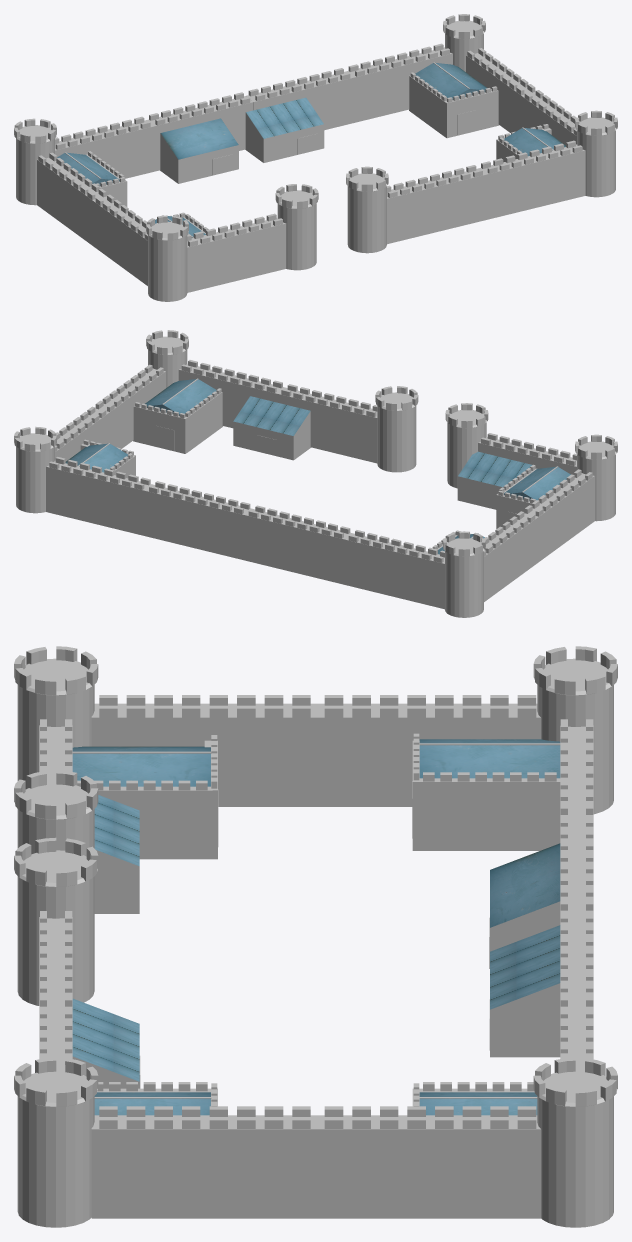
File: castle_lp.FBX
3 renders of one model, top to bottom at view 1: azimuth 30°, elevation 25°; view 2: azimuth 150°, elevation 25°; view 3: azimuth 270°, elevation 25°, orthographic. The views are drawn at different scales.
Visible parts, largest first — view 1: Box284; view 2: Box284; view 3: Box284.
Boxes of the visible parts, bbox=[...] form: Box284: bbox=[14, 14, 617, 301]; Box284: bbox=[14, 330, 617, 617]; Box284: bbox=[14, 646, 617, 1227].
Bounding box in the file's own units: 4867 × 704 × 2778.
